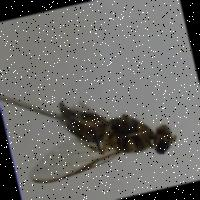Oriental-fruit-fly: (10, 68, 184, 196)
